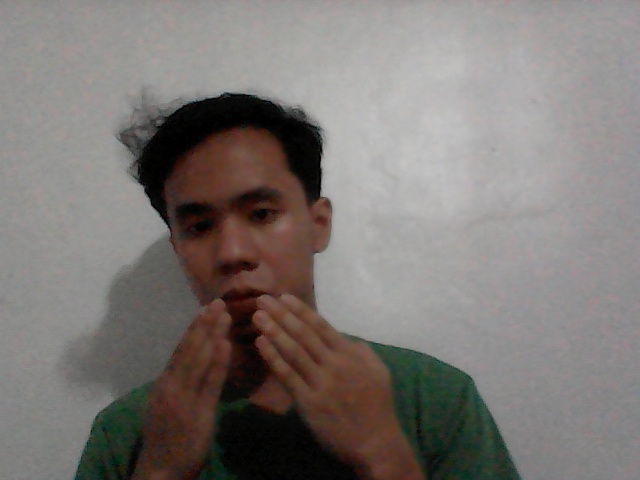Thank You: (116, 291, 412, 473)
